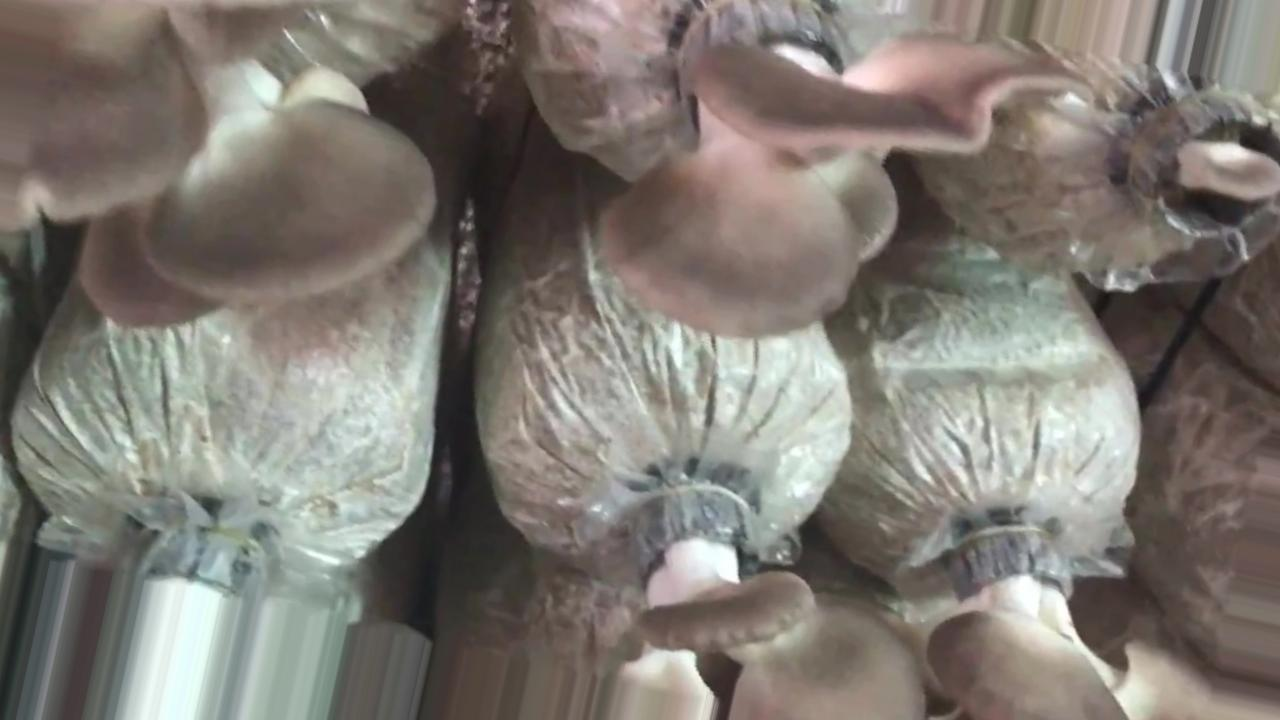nam: (588, 28, 1100, 343), (2, 5, 445, 334), (925, 525, 1178, 720), (629, 499, 818, 720)
